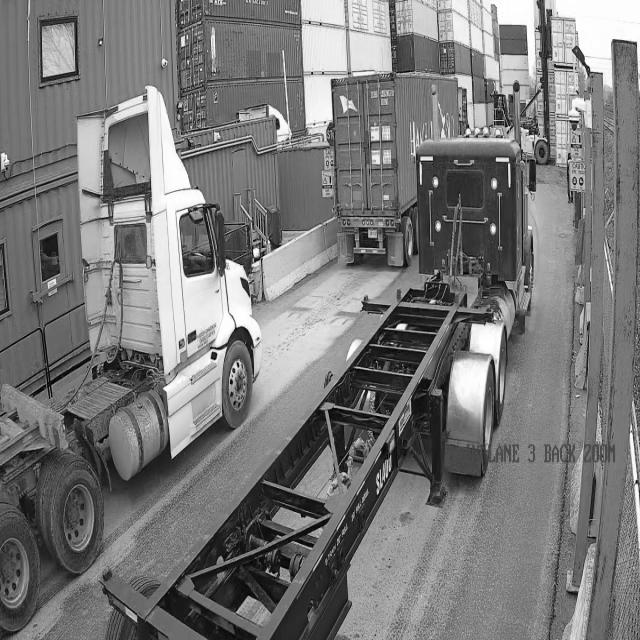truck_trailer: (0, 85, 263, 629)
truck_with_container: (329, 73, 459, 265)
truck_without_container: (103, 137, 536, 639)
